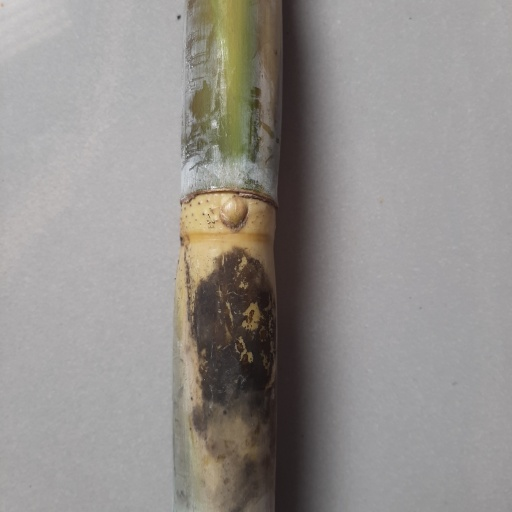Bud: (220, 195, 248, 231)
